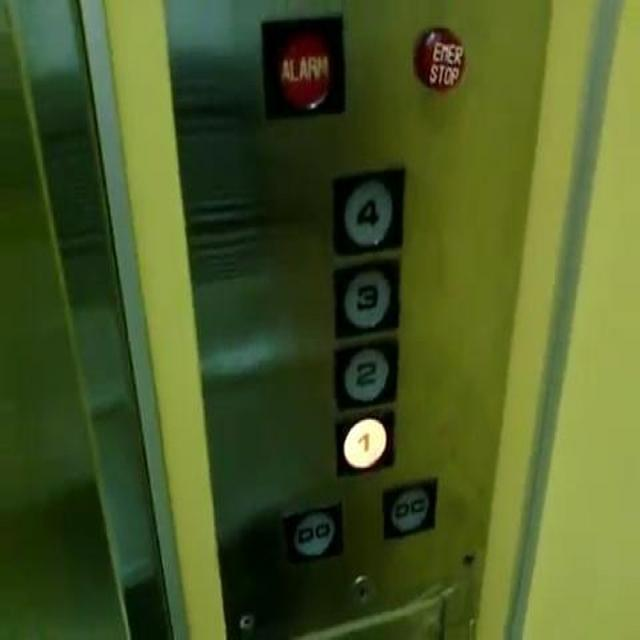1: (334, 408, 394, 476)
2: (333, 339, 397, 409)
3: (330, 259, 400, 340)
4: (330, 164, 404, 255)
DC: (381, 477, 437, 540)
DO: (278, 500, 343, 564)
keyhole: (350, 575, 376, 608)
text: (260, 12, 346, 120), (411, 24, 465, 92)
